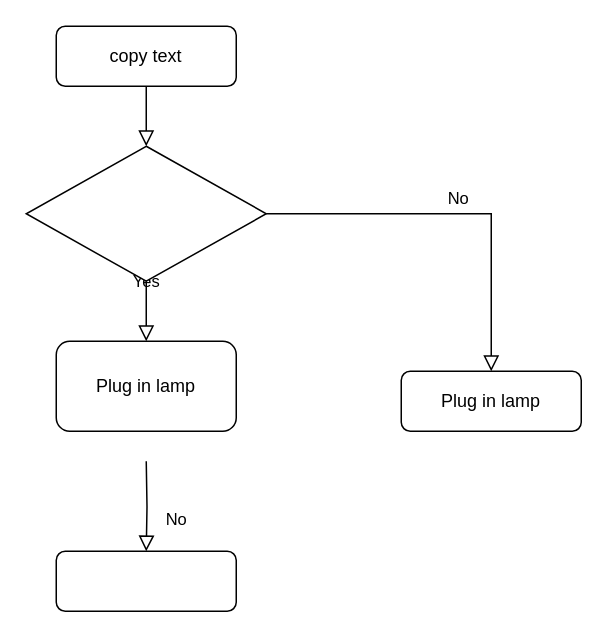
Some shapes in this 608 by 638 pixel diagram are drawn without their labels. Here are the shapes that lost their labels. From the top down, the box of each, then its label:
(25, 145, 266, 281): ClipBord text is English ?
(55, 550, 236, 611): Repair Lamp
